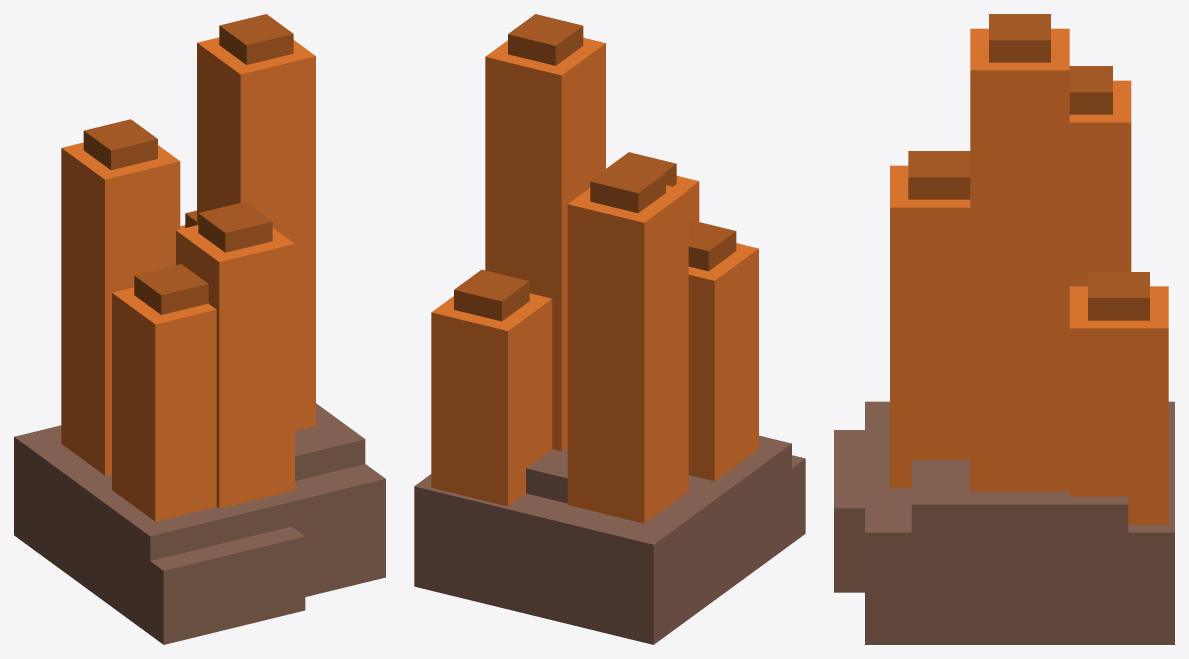
The model's file is TubeCoral_Orange.glb.
3 views of the same model, side by side, from view 1: azimuth 30°, elevation 25°; view 2: azimuth 150°, elevation 25°; view 3: azimuth 270°, elevation 25° (orthographic). The views are drawn at different scales.
Visible parts, largest first — view 1: TubeCoral_Orange; view 2: TubeCoral_Orange; view 3: TubeCoral_Orange.
Boxes of the visible parts, x1,y1,x2,y2 form: TubeCoral_Orange: (14,14,385,644); TubeCoral_Orange: (414,14,805,644); TubeCoral_Orange: (834,14,1174,644).
Size of the model in its own units: 5 by 10.4 by 5.5.
1 material, 1 textured.
